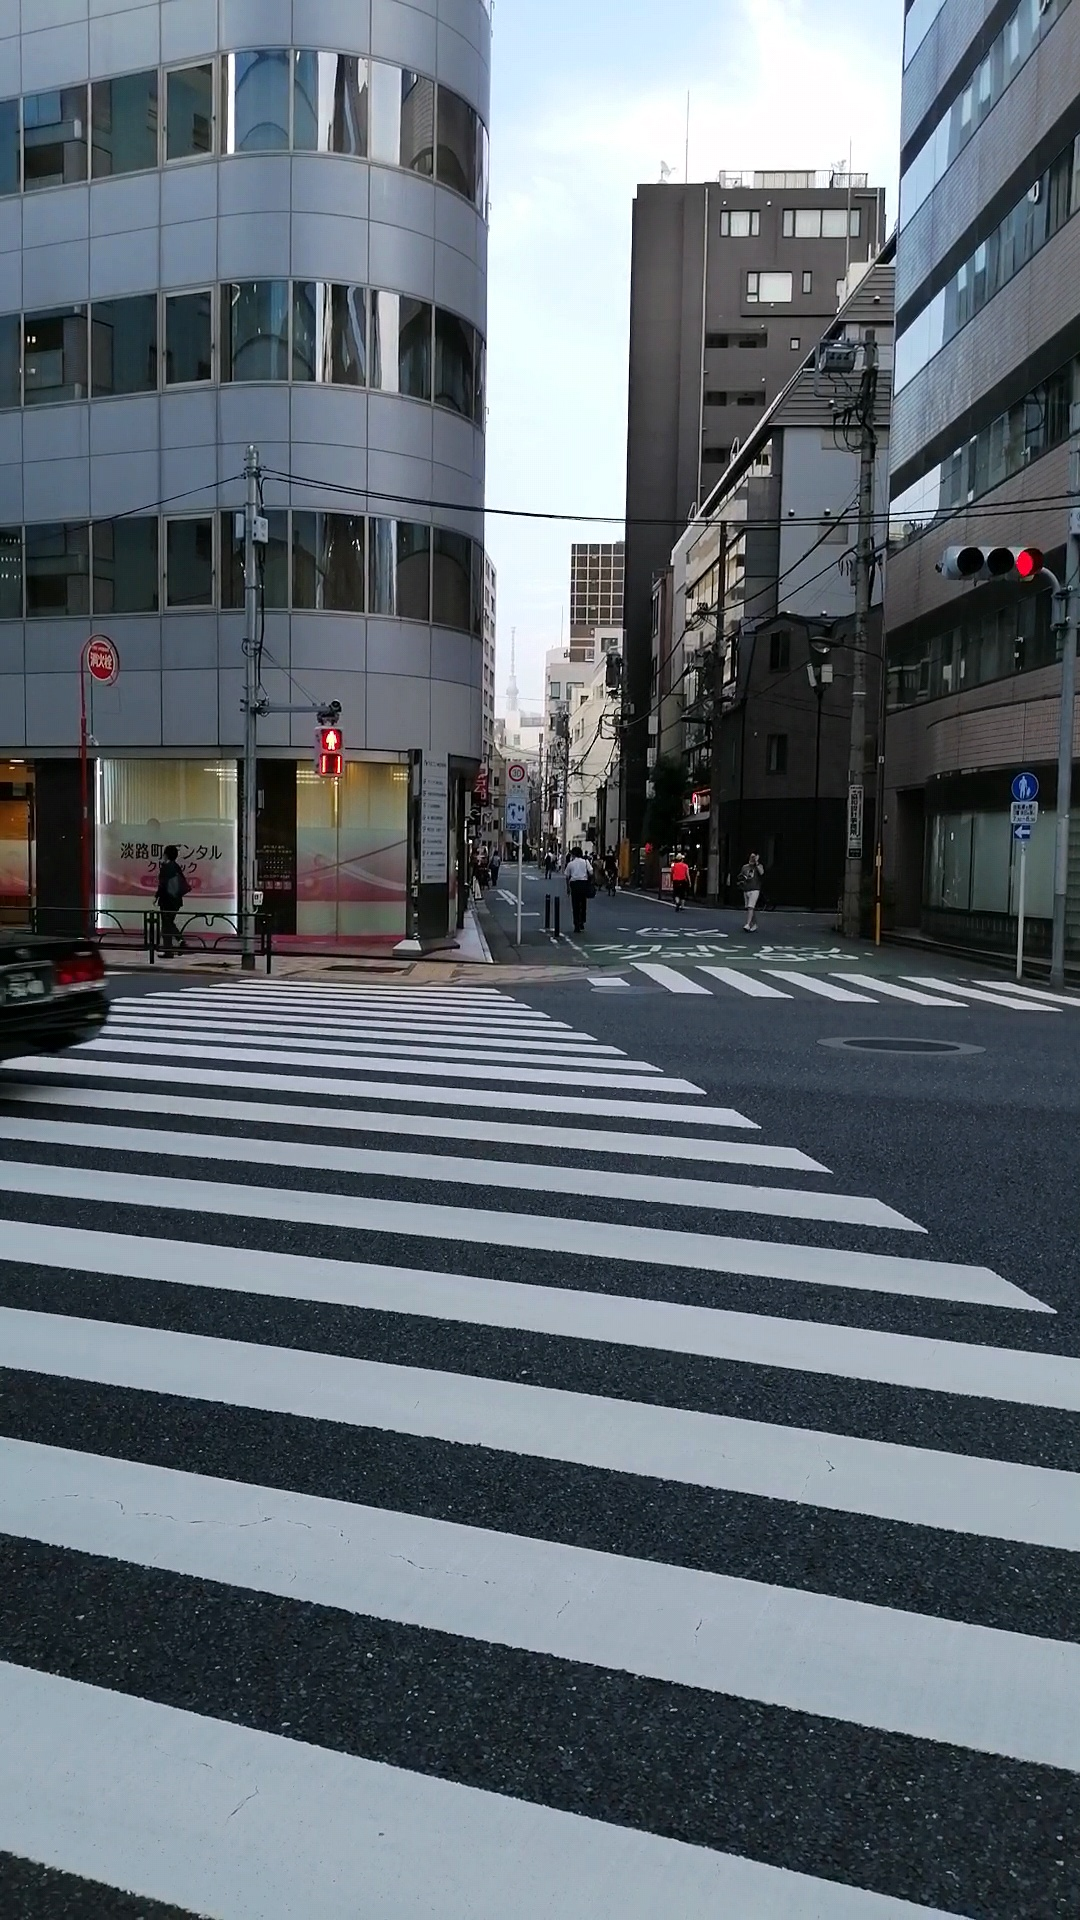red: (315, 725, 345, 779)
